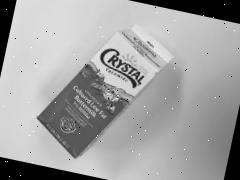paper: (16, 0, 204, 180)
